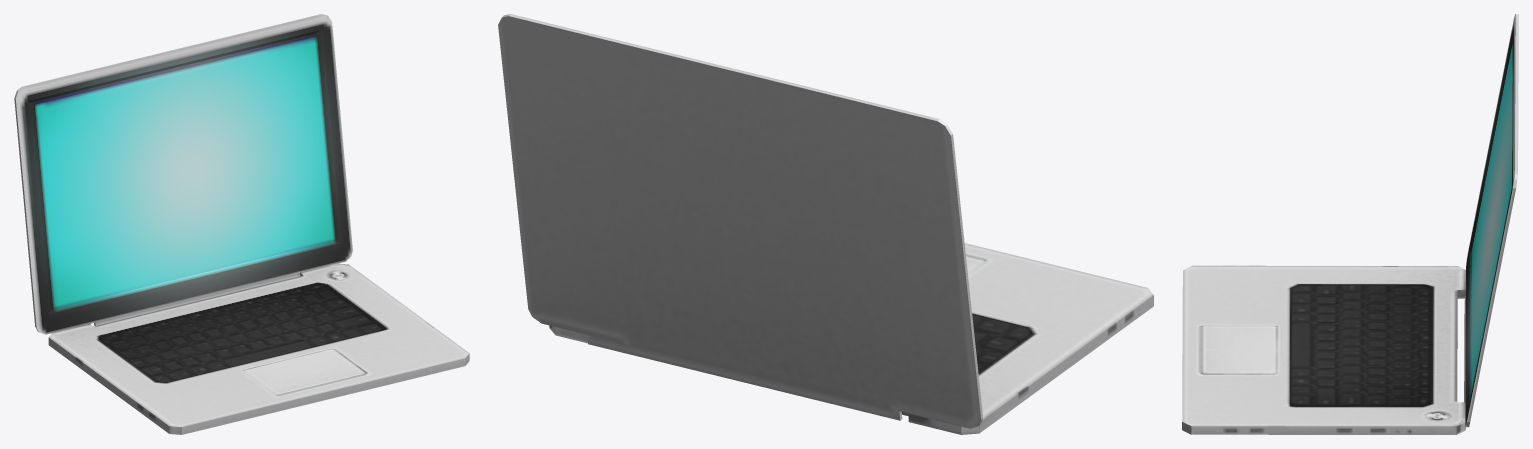
File: TouKuiZheJia_01_diannao_01.FBX
3 views of the same model, side by side, from view 1: azimuth 30°, elevation 25°; view 2: azimuth 150°, elevation 25°; view 3: azimuth 270°, elevation 25° (orthographic). The views are drawn at different scales.
Visible parts, largest first — view 1: TouKuiZheJia_01_diannao_01; view 2: TouKuiZheJia_01_diannao_01; view 3: TouKuiZheJia_01_diannao_01.
Boxes of the visible parts, box(x1,y1,x2,y2) form: TouKuiZheJia_01_diannao_01: box(14, 14, 469, 434); TouKuiZheJia_01_diannao_01: box(498, 14, 1153, 434); TouKuiZheJia_01_diannao_01: box(1182, 14, 1518, 434).
Size of the model in its own units: 305 by 220 by 257.
